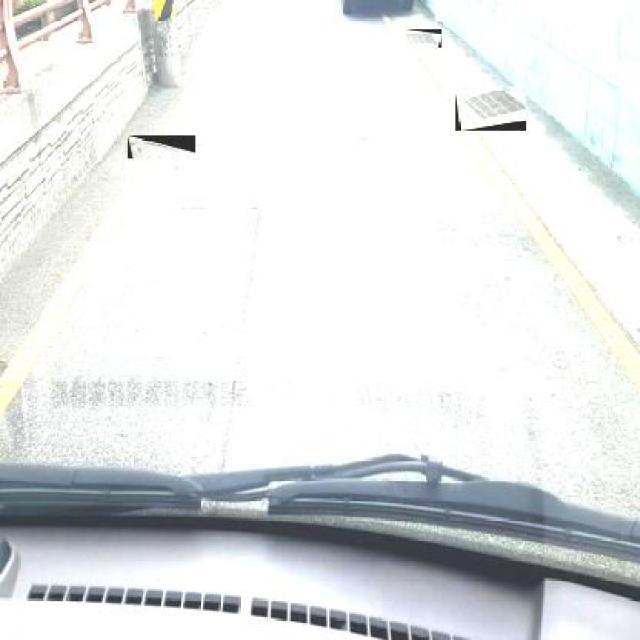Manhole: (456, 92, 526, 132), (128, 136, 196, 158), (403, 29, 442, 48)
